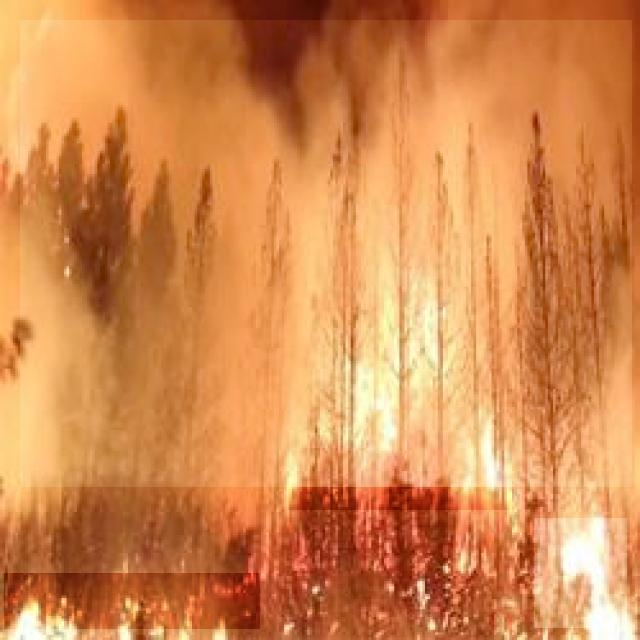Fire: (288, 290, 514, 510), (4, 574, 260, 630), (534, 518, 627, 628)
Smoke: (20, 20, 632, 487)
